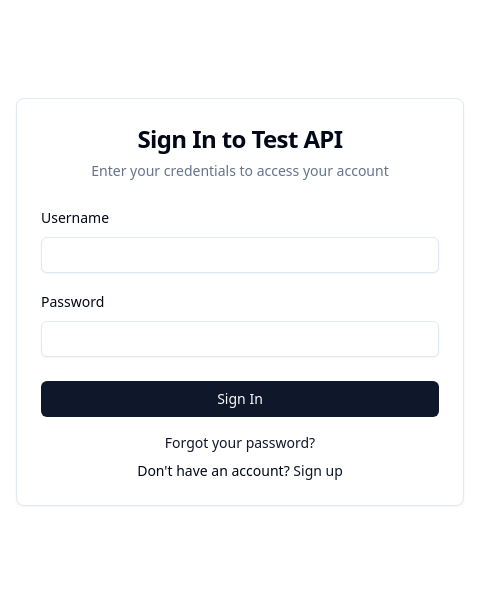
Test: LoginPage › shows TOTP input when TOTP is required
Note: Fill in username and password
Type "testuser" into the field labelled "Username" at (240, 255), box [41, 237, 439, 273]
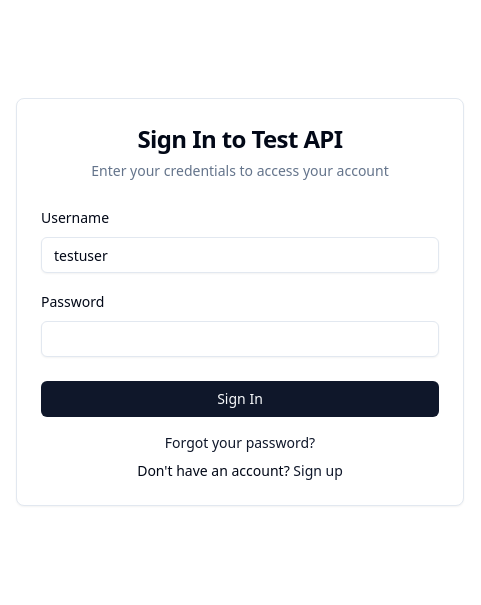
Type "password123" into the password field labelled "Password" at (240, 339), box [41, 321, 439, 357]
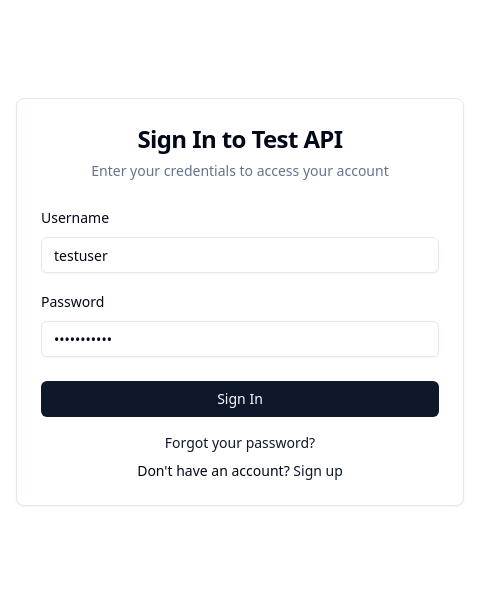
Note: Submit form
Click the button "Sign In" at (240, 399), box [41, 381, 439, 417]
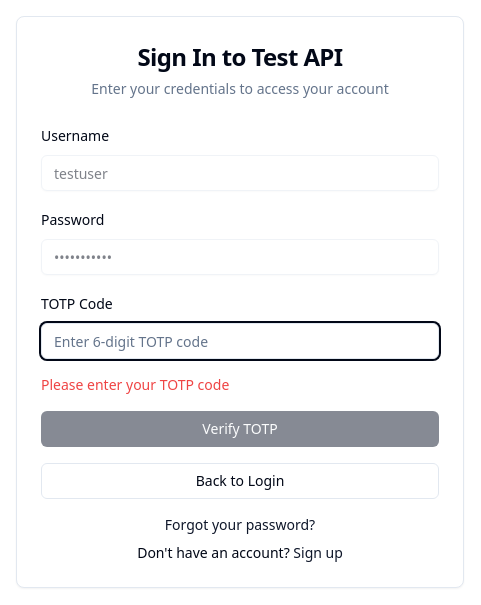
expect the field with placeholder "Enter 6-digit TOTP code" is shown: met, box [41, 323, 439, 359]
expect the field labelled "Username" is disabled: met, box [41, 155, 439, 191]
expect the password field labelled "Password" is disabled: met, box [41, 239, 439, 275]
